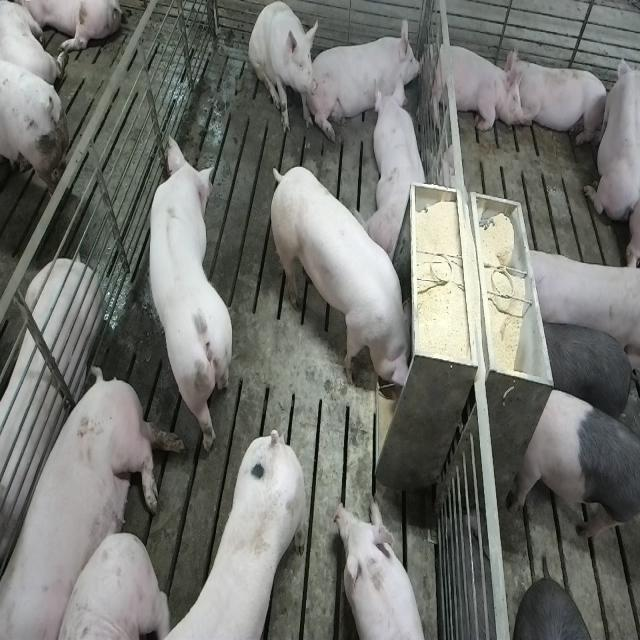Feeding: (273, 163, 421, 397)
Lateral_lying: (2, 367, 183, 640), (0, 257, 102, 596)
Sitting: (249, 2, 319, 137)
Standing: (145, 430, 314, 640), (144, 128, 233, 462), (511, 384, 639, 552), (518, 242, 637, 365), (535, 318, 637, 422), (515, 575, 595, 638)
Sternal_lying: (335, 498, 431, 640), (314, 20, 424, 134), (369, 79, 430, 263), (584, 46, 638, 228), (509, 52, 610, 148), (424, 37, 520, 135)
